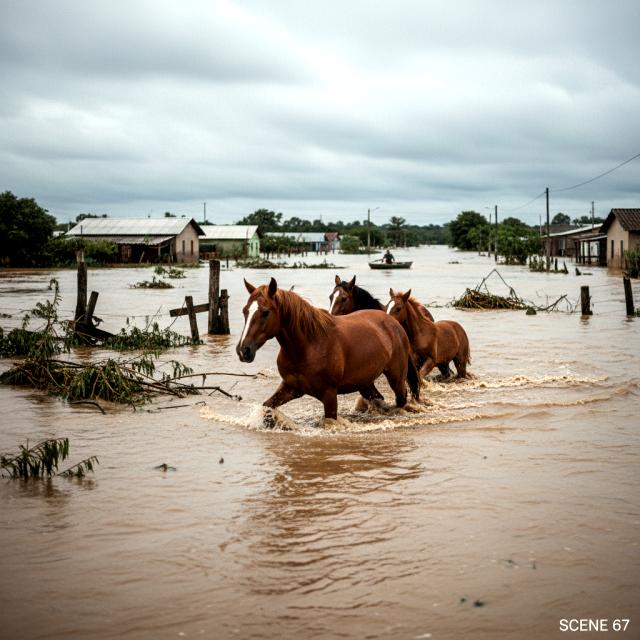horse: (228, 275, 423, 436), (377, 279, 495, 390), (307, 271, 440, 321)
